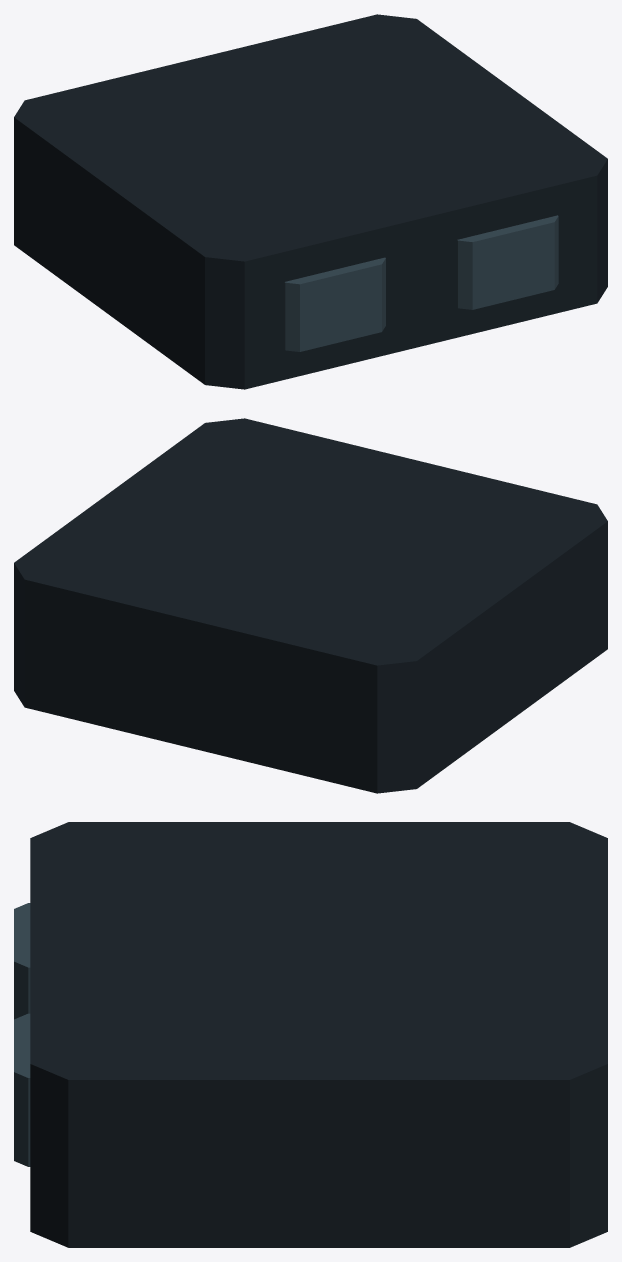
The model's file is enemy_tank_foot_r.obj.
3 renders of one model, top to bottom at view 1: azimuth 30°, elevation 25°; view 2: azimuth 150°, elevation 25°; view 3: azimuth 270°, elevation 25°, orthographic. The views are drawn at different scales.
Bounding box in the file's own units: 0.56 × 0.17 × 0.545.
